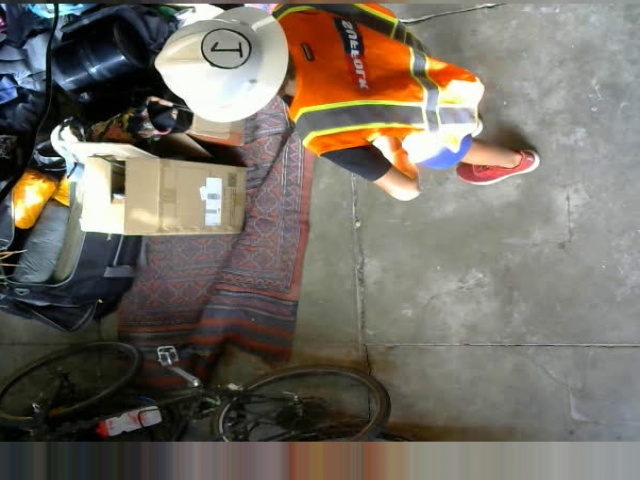one: (200, 28, 250, 68)
